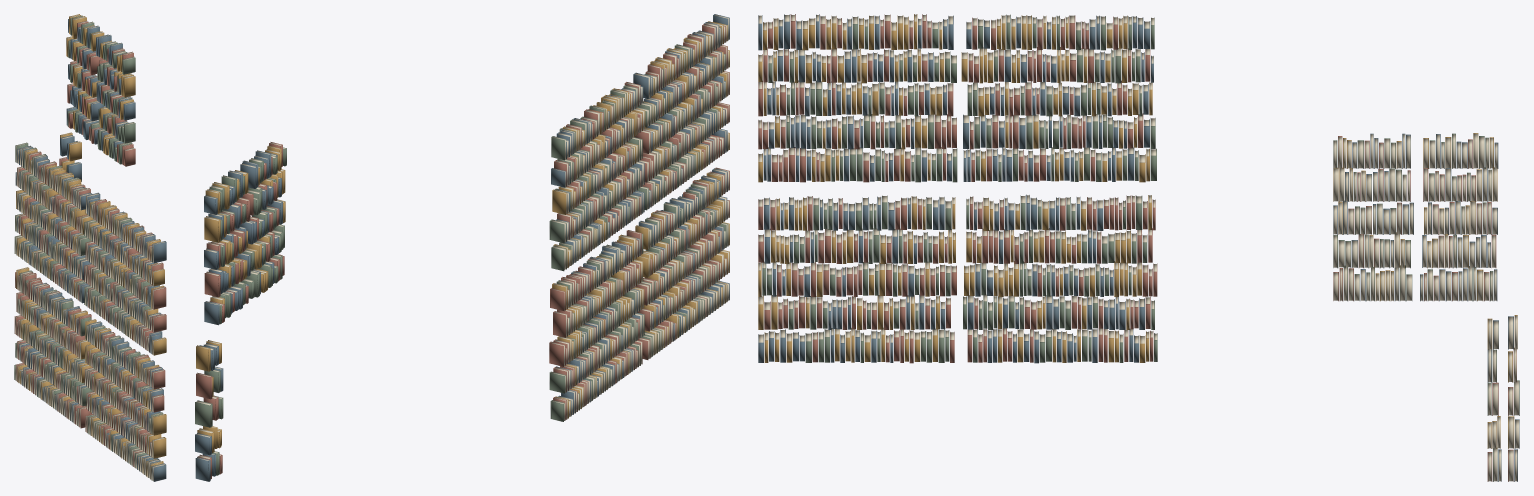
Rendered from detail-library.glb.
3 views of the same model, side by side, from view 1: azimuth 30°, elevation 25°; view 2: azimuth 150°, elevation 25°; view 3: azimuth 270°, elevation 25° (orthographic). The views are drawn at different scales.
Visible parts, largest first — view 1: library__library warm paper edges, library__library clay cloth, library__library ochre cloth, library__library slate cloth, library__library olive cloth, library_patio_book_bay__library slate cloth, library_patio_book_bay__library ochre cloth; view 2: library__library warm paper edges, library__library clay cloth, library__library slate cloth, library__library olive cloth, library__library ochre cloth, library_patio_book_bay__library slate cloth, library_patio_book_bay__library olive cloth, library_patio_book_bay__library ochre cloth, library_patio_book_bay__library clay cloth; view 3: library__library warm paper edges, library__library clay cloth, library__library slate cloth, library__library ochre cloth, library__library olive cloth, library_patio_book_bay__library warm paper edges.
Boxes of the visible parts, <box> form: library__library warm paper edges: <box>15,14,164,480</box>; library__library clay cloth: <box>14,20,166,467</box>; library__library ochre cloth: <box>16,14,166,479</box>; library__library slate cloth: <box>15,19,166,481</box>; library__library olive cloth: <box>14,15,163,469</box>; library_patio_book_bay__library slate cloth: <box>60,135,81,181</box>; library_patio_book_bay__library ochre cloth: <box>60,132,81,172</box>; library__library warm paper edges: <box>205,14,729,420</box>; library__library clay cloth: <box>204,24,729,420</box>; library__library slate cloth: <box>204,14,729,416</box>; library__library olive cloth: <box>209,44,728,421</box>; library__library ochre cloth: <box>204,21,729,419</box>; library_patio_book_bay__library slate cloth: <box>195,343,223,481</box>; library_patio_book_bay__library olive cloth: <box>195,369,223,475</box>; library_patio_book_bay__library ochre cloth: <box>196,340,221,453</box>; library_patio_book_bay__library clay cloth: <box>196,372,222,479</box>; library__library warm paper edges: <box>758,14,1497,343</box>; library__library clay cloth: <box>758,14,1496,363</box>; library__library slate cloth: <box>758,14,1498,363</box>; library__library ochre cloth: <box>758,14,1497,362</box>; library__library olive cloth: <box>762,14,1493,362</box>; library_patio_book_bay__library warm paper edges: <box>1488,316,1519,481</box>.
Bounding box in the file's own units: 3.56 × 4.42 × 8.97.
